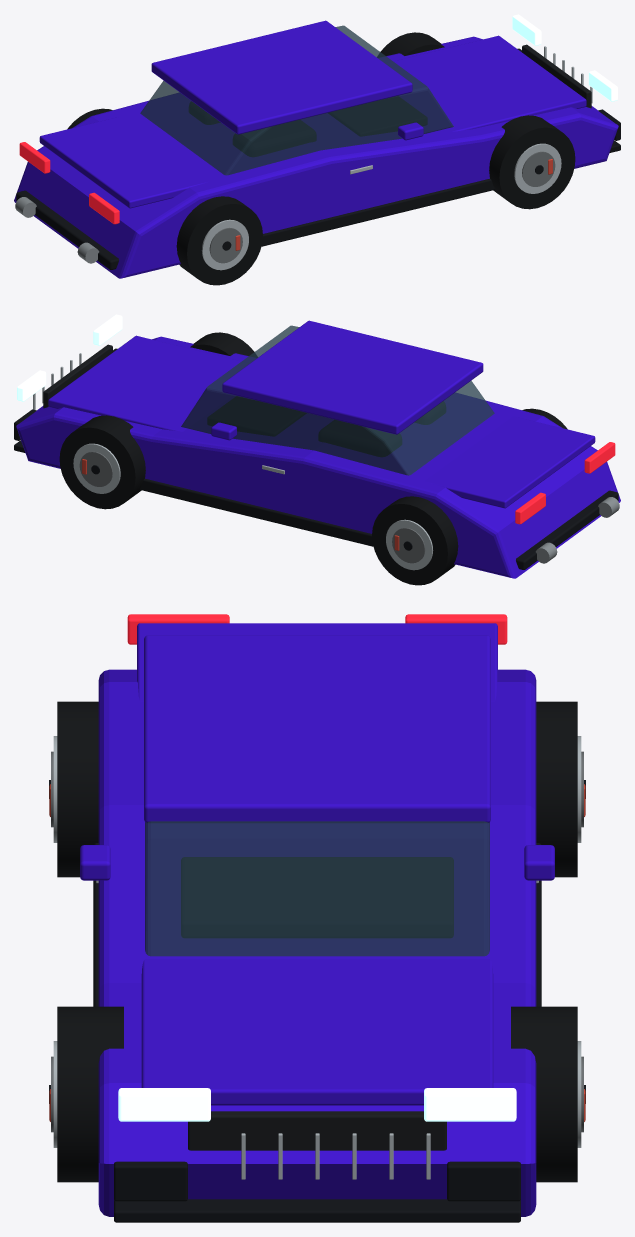
The model's file is chevy_camaro.glb.
3 views of the same model, one above another, from view 1: azimuth 30°, elevation 25°; view 2: azimuth 150°, elevation 25°; view 3: azimuth 270°, elevation 25° (orthographic). The views are drawn at different scales.
Visible parts, largest first — view 1: sculpted_body, roof, glasshouse, hood_center, rear_deck, front_right_wheel_tire, rear_right_wheel_tire, side_skirt_1, dashboard, seat_1, rear_diffuser, front_left_wheel_tire (+9 smaller); view 2: sculpted_body, roof, glasshouse, hood_center, rear_deck, front_left_wheel_tire, rear_left_wheel_tire, side_skirt_-1, dashboard, seat_-1, rear_diffuser, front_right_wheel_tire (+9 smaller); view 3: sculpted_body, roof, hood_center, glasshouse, dashboard, front_grille, front_splitter, front_left_wheel_tire, front_right_wheel_tire, rear_left_wheel_tire, rear_right_wheel_tire, rear_deck (+8 smaller).
Boxes of the visible parts, left/top/right/bottom form: sculpted_body: left=14, top=36, right=618, bottom=278; roof: left=151, top=20, right=412, bottom=134; glasshouse: left=140, top=25, right=453, bottom=175; hood_center: left=386, top=35, right=586, bottom=131; rear_deck: left=39, top=116, right=209, bottom=208; front_right_wheel_tire: left=489, top=115, right=575, bottom=209; rear_right_wheel_tire: left=176, top=196, right=262, bottom=285; side_skirt_1: left=261, top=178, right=495, bottom=246; dashboard: left=328, top=96, right=426, bottom=135; seat_1: left=233, top=120, right=315, bottom=156; rear_diffuser: left=16, top=190, right=118, bottom=269; front_left_wheel_tire: left=377, top=32, right=444, bottom=57; sculpted_body: left=16, top=336, right=620, bottom=578; roof: left=222, top=320, right=483, bottom=434; glasshouse: left=181, top=325, right=494, bottom=475; hood_center: left=48, top=335, right=248, bottom=431; rear_deck: left=425, top=416, right=595, bottom=508; front_left_wheel_tire: left=59, top=415, right=145, bottom=509; rear_left_wheel_tire: left=372, top=496, right=458, bottom=585; side_skirt_-1: left=139, top=478, right=373, bottom=546; dashboard: left=208, top=396, right=306, bottom=435; seat_-1: left=319, top=420, right=401, bottom=456; rear_diffuser: left=516, top=490, right=618, bottom=569; front_right_wheel_tire: left=190, top=332, right=257, bottom=357; sculpted_body: left=98, top=669, right=536, bottom=1216; roof: left=144, top=635, right=490, bottom=822; hood_center: left=141, top=959, right=493, bottom=1105; glasshouse: left=145, top=821, right=489, bottom=956; dashboard: left=181, top=857, right=453, bottom=937; front_grille: left=188, top=1111, right=446, bottom=1150; front_splitter: left=114, top=1199, right=520, bottom=1222; front_left_wheel_tire: left=511, top=1006, right=577, bottom=1182; front_right_wheel_tire: left=57, top=1006, right=123, bottom=1182; rear_left_wheel_tire: left=536, top=701, right=577, bottom=877; rear_right_wheel_tire: left=57, top=701, right=98, bottom=877; rear_deck: left=137, top=623, right=497, bottom=701.
Size of the model in its own units: 5.09 by 1.25 by 2.26.
